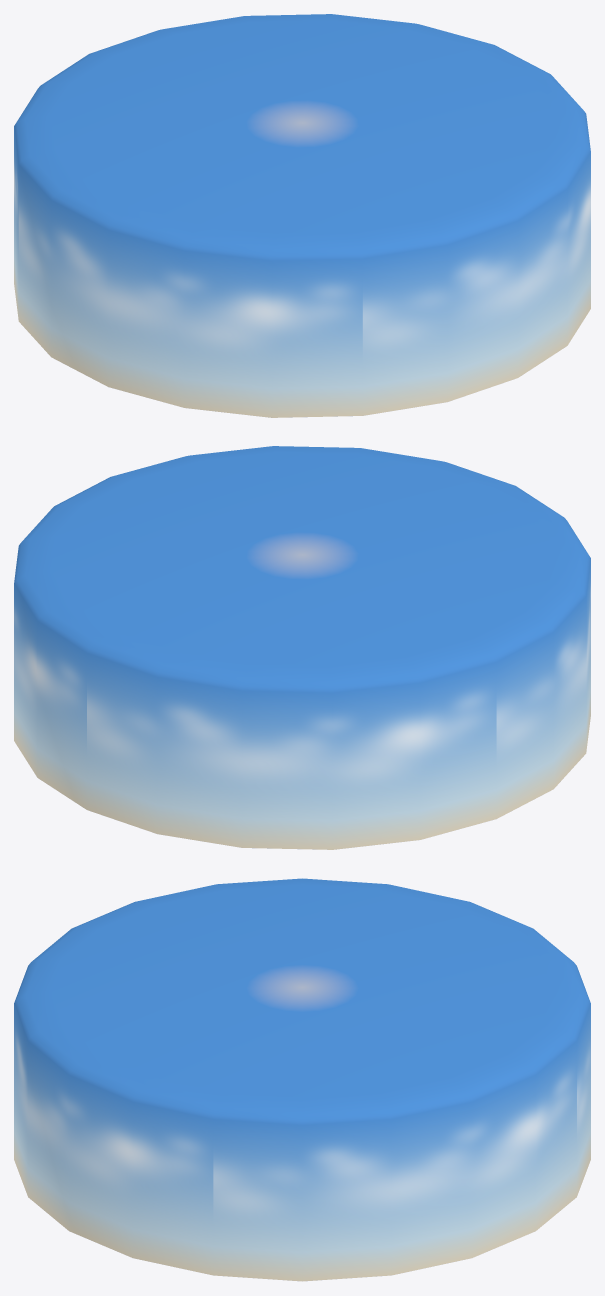
The model's file is sky.glb.
3 views of the same model, one above another, from view 1: azimuth 30°, elevation 25°; view 2: azimuth 150°, elevation 25°; view 3: azimuth 270°, elevation 25° (orthographic).
Parts seen in each view (by area): view 1: Cylinder009; view 2: Cylinder009; view 3: Cylinder009.
Boxes of the visible parts, <box> form: Cylinder009: <box>14,14,590,417</box>; Cylinder009: <box>14,446,590,849</box>; Cylinder009: <box>14,878,590,1281</box>.
Bounding box in the file's own units: 641 × 211 × 641.
1 material, 1 textured.
